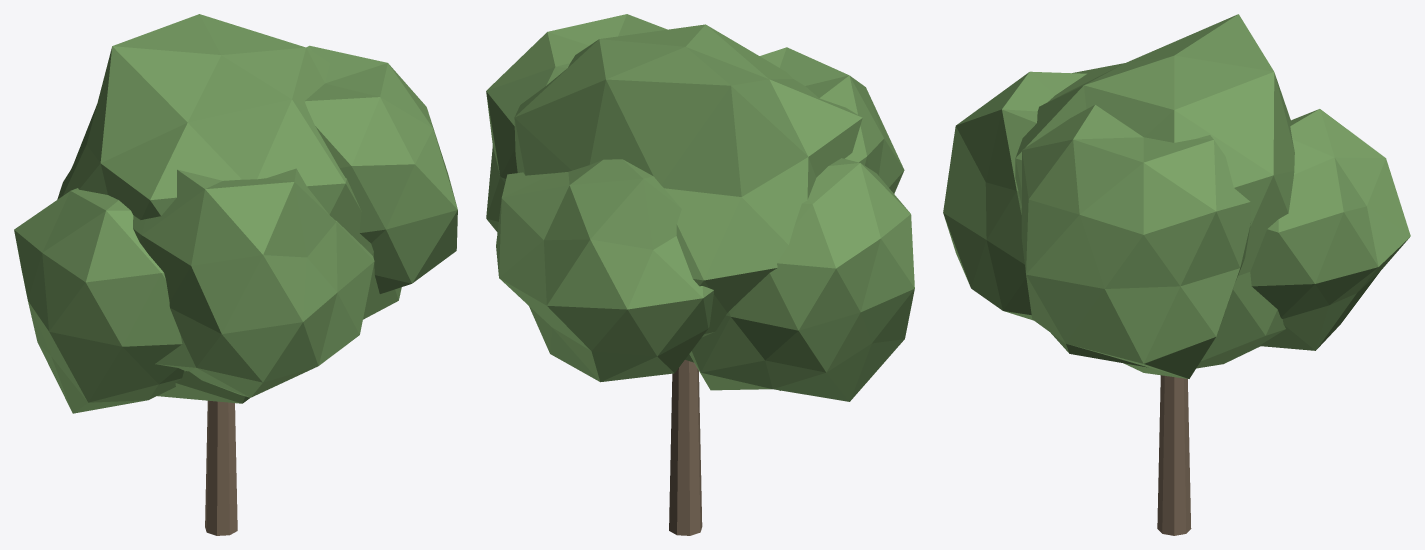
File: tree_round.glb
3 renders of one model, left to right at view 1: azimuth 30°, elevation 25°; view 2: azimuth 150°, elevation 25°; view 3: azimuth 270°, elevation 25°, orthographic.
Visible parts, largest first — view 1: tree_round; view 2: tree_round; view 3: tree_round.
Boxes of the visible parts, x1=… form: tree_round: x1=14, y1=14, x2=457, y2=535; tree_round: x1=486, y1=14, x2=914, y2=535; tree_round: x1=943, y1=14, x2=1410, y2=535.
Bounding box in the file's own units: 5.7 × 6.54 × 5.81.
